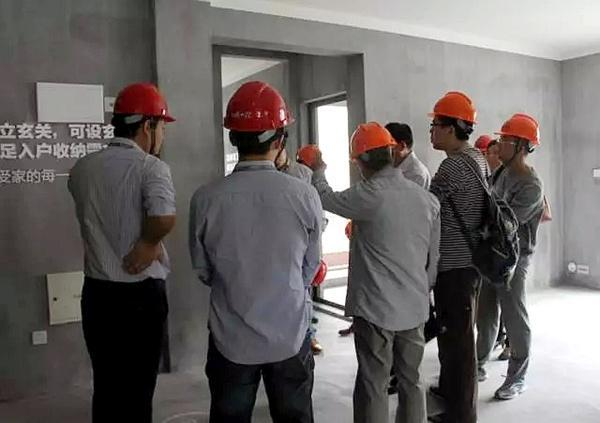helmet: (219, 81, 294, 134), (105, 85, 177, 131), (428, 88, 483, 127), (495, 111, 546, 150), (349, 116, 400, 155)
no-vest: (197, 165, 324, 366), (338, 175, 437, 334), (72, 143, 176, 293), (439, 157, 486, 277), (497, 170, 545, 272)
person: (187, 78, 329, 423), (67, 83, 177, 423), (332, 121, 445, 423), (414, 92, 494, 423), (492, 108, 554, 423)
